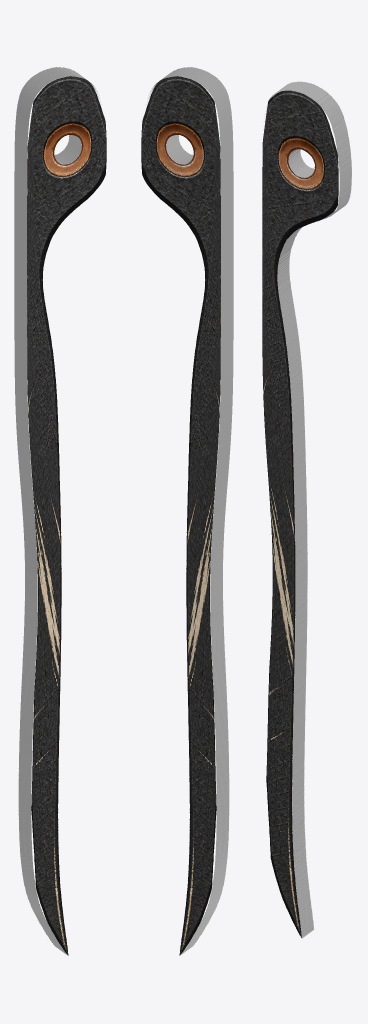
The model's file is LowerLeg.glb.
3 renders of one model, left to right at view 1: azimuth 30°, elevation 25°; view 2: azimuth 150°, elevation 25°; view 3: azimuth 330°, elevation 25°, orthographic. The views are drawn at different scales.
Parts seen in each view (by area): view 1: PaperVolume; view 2: PaperVolume; view 3: PaperVolume.
Boxes of the visible parts, x1=… form: PaperVolume: x1=14, y1=67, x2=106, y2=955; PaperVolume: x1=141, y1=67, x2=233, y2=955; PaperVolume: x1=262, y1=81, x2=351, y2=938.
Size of the model in its own units: 0.3 by 3.5 by 0.08.
3 materials, 2 textured.
